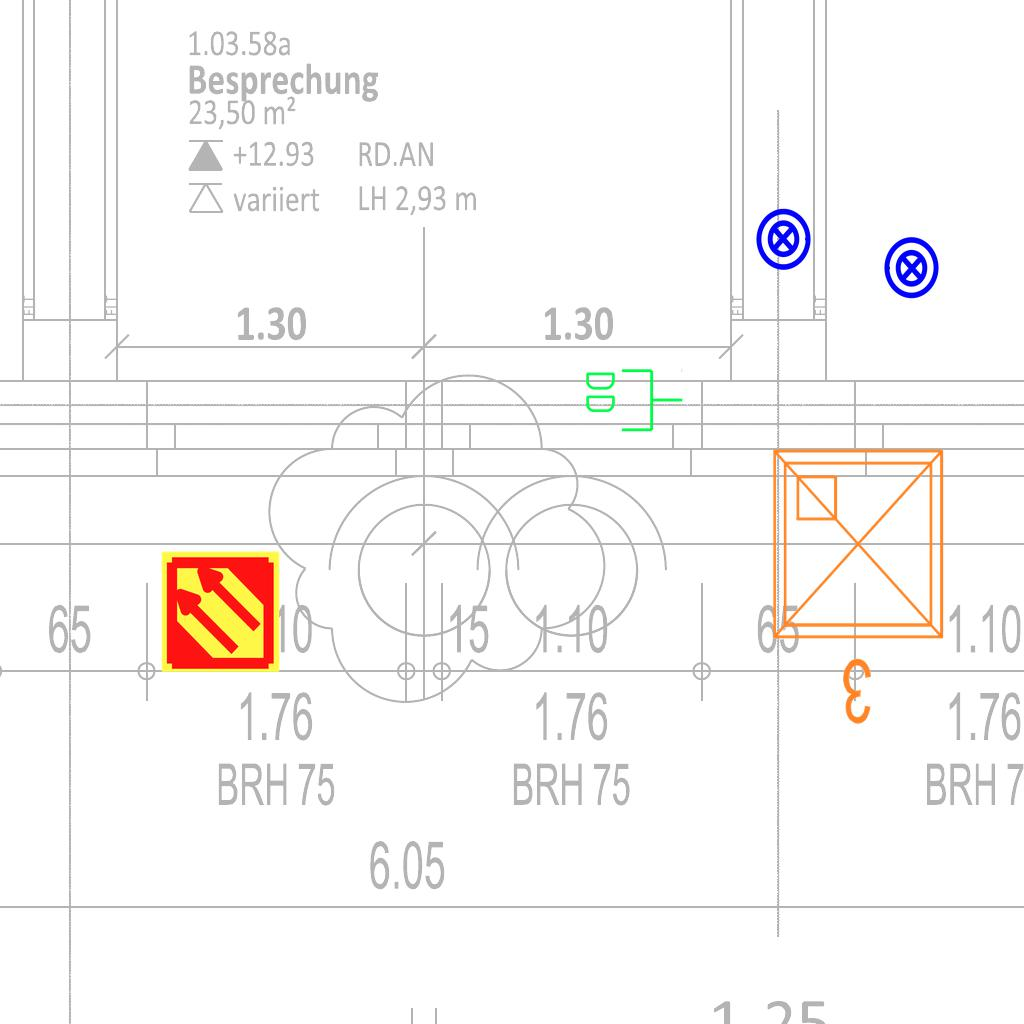ASR_Ansaugrauchmelder: (158, 549, 283, 674)
Datenanschluss_zweifach: (582, 365, 685, 434)
Einbaudownlights_LED_Konferenzraeume: (758, 435, 966, 735)
Taster_beleuchtet: (750, 206, 816, 272), (879, 235, 945, 301)
